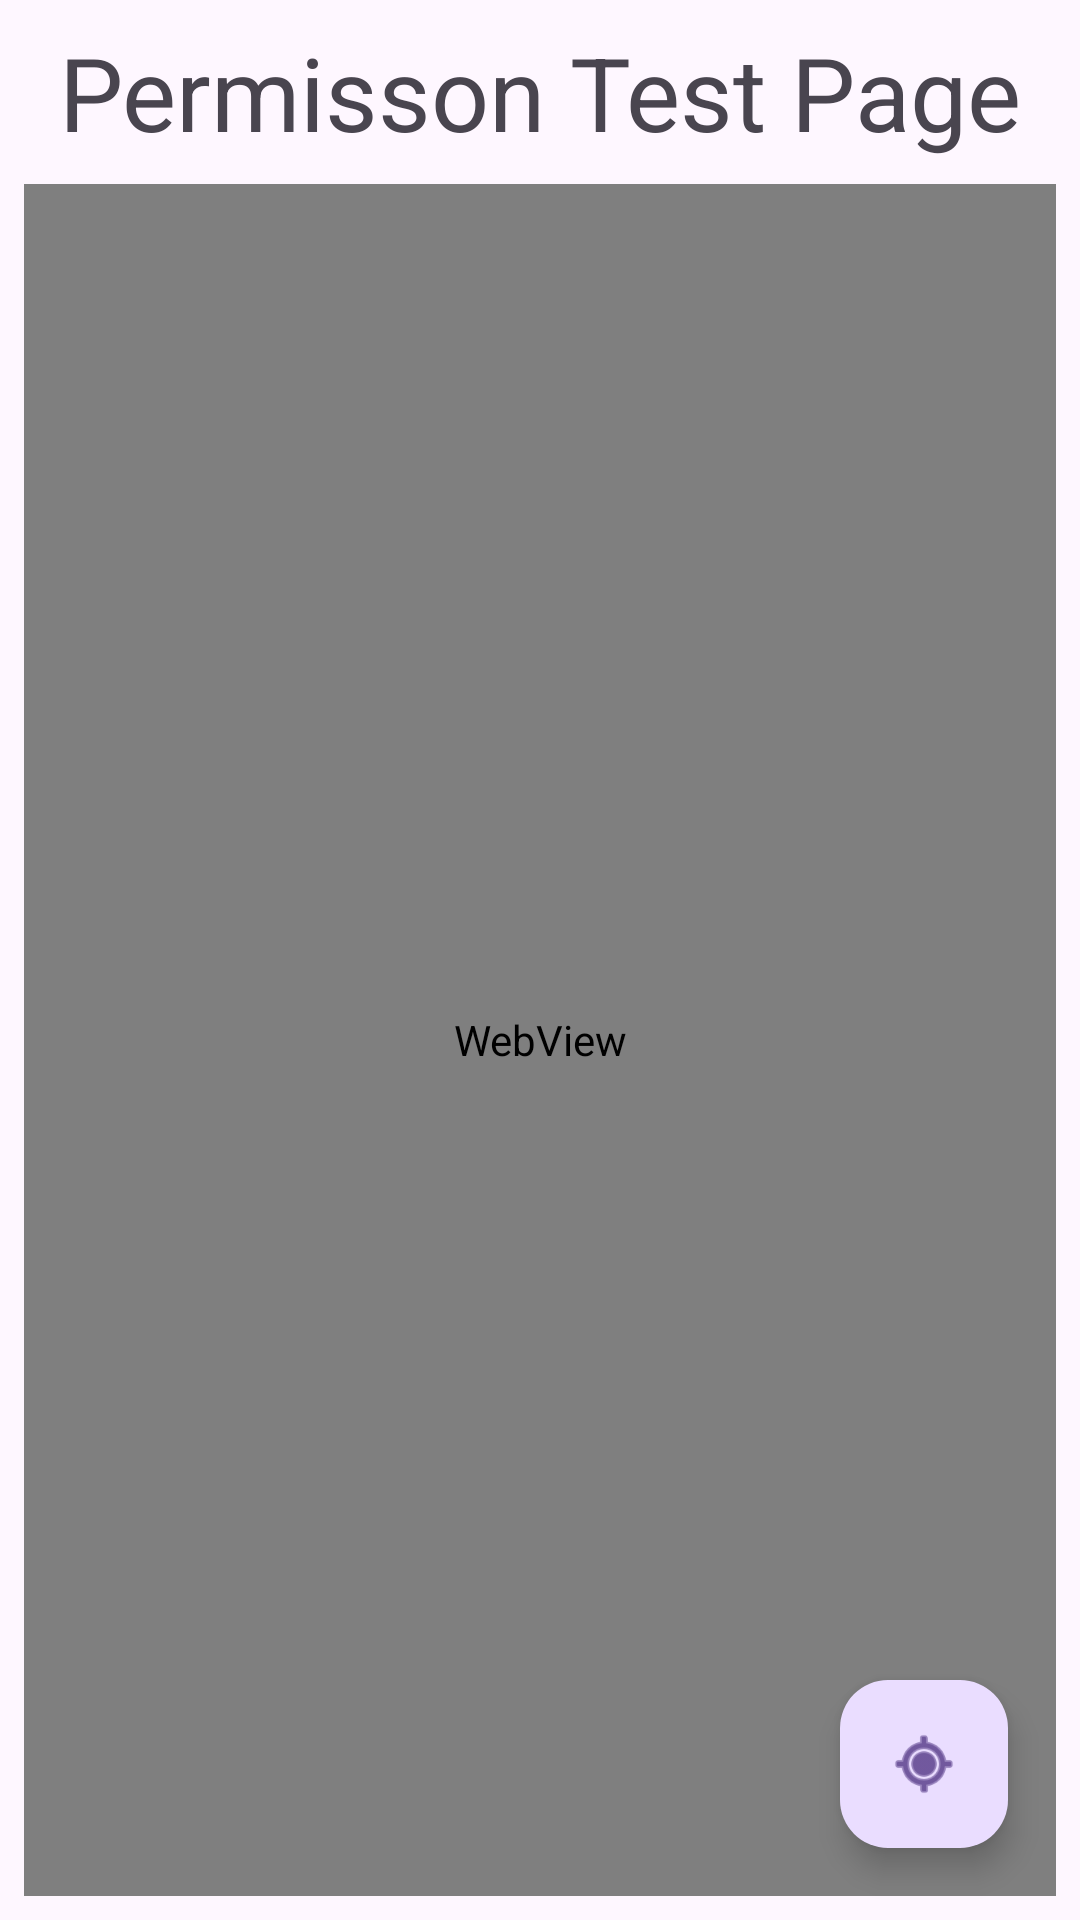

Point at icon controls on the screen. Image size 1080px×1920px, points as (x=x, y=y).
mylocation: (x=924, y=1764)
